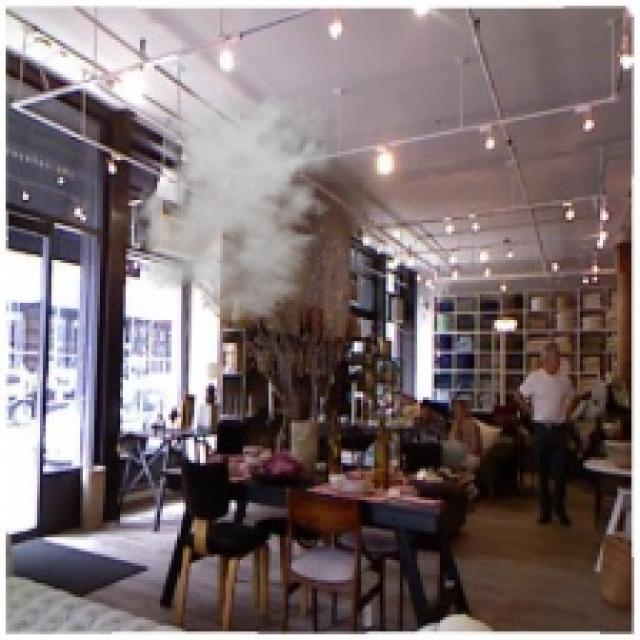Smoke: (128, 80, 346, 323)
